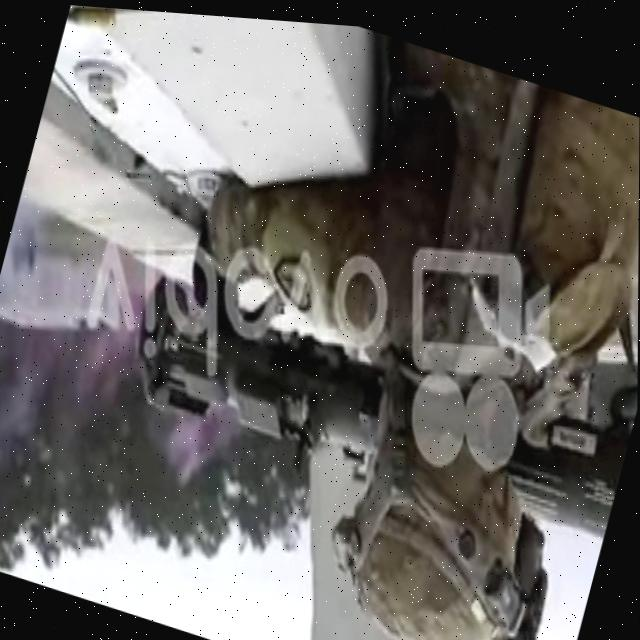rocket: (85, 152, 639, 640)
